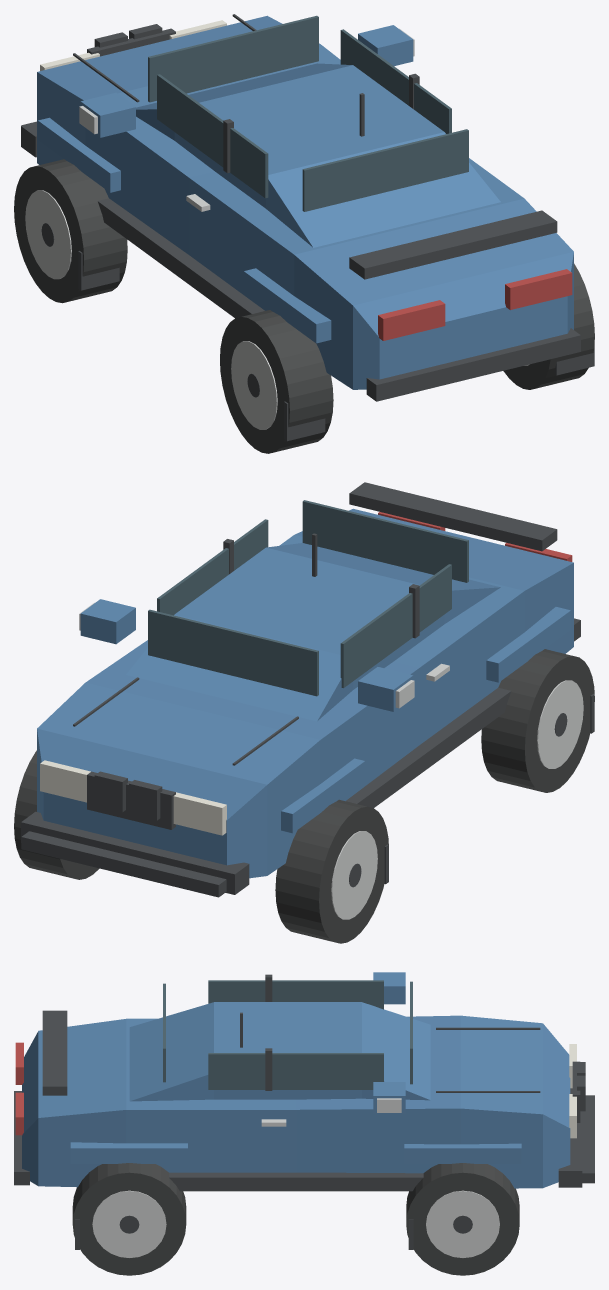
File: bmw_rally.glb
3 renders of one model, top to bottom at view 1: azimuth 30°, elevation 25°; view 2: azimuth 150°, elevation 25°; view 3: azimuth 270°, elevation 25°, orthographic. The views are drawn at different scales.
Visible parts, largest first — view 1: Sculpted lower monocoque, Sloped cabin shell, Tire -1 1, Tire -1 0, Windshield, Rear window, BMW deck spoiler, Side glass -1, Rear diffuser, Wide sill -1, Side glass 1, Alloy wheel -1 0 (+12 smaller); view 2: Sculpted lower monocoque, Sloped cabin shell, Tire -1 0, Tire -1 1, Windshield, Rear window, BMW deck spoiler, Side glass -1, Wide sill -1, BMW front lip, Front air dam, Side glass 1 (+12 smaller); view 3: Sculpted lower monocoque, Sloped cabin shell, Tire 1 1, Tire 1 0, Side glass 1, Wide sill 1, Side glass -1, Alloy wheel 1 1, Alloy wheel 1 0, Fender flare 1 1.35, Fender flare 1 -1.35, BMW deck spoiler (+5 smaller).
Part boxes in pixels (left/top/right/bottom): Sculpted lower monocoque: left=37, top=15, right=573, bottom=389; Sloped cabin shell: left=136, top=63, right=500, bottom=247; Tire -1 1: left=220, top=310, right=333, bottom=453; Tire -1 0: left=14, top=159, right=127, bottom=303; Windshield: left=148, top=15, right=318, bottom=102; Rear window: left=302, top=129, right=468, bottom=211; BMW deck spoiler: left=349, top=210, right=557, bottom=279; Side glass -1: left=157, top=74, right=268, bottom=198; Rear diffuser: left=366, top=328, right=580, bottom=401; Wide sill -1: left=97, top=198, right=264, bottom=318; Side glass 1: left=340, top=29, right=451, bottom=133; Alloy wheel -1 0: left=25, top=190, right=71, bottom=279; Sculpted lower monocoque: left=37, top=508, right=573, bottom=878; Sloped cabin shell: left=126, top=543, right=500, bottom=721; Tire -1 0: left=275, top=799, right=388, bottom=943; Tire -1 1: left=481, top=649, right=594, bottom=792; Windshield: left=148, top=609, right=318, bottom=696; Rear window: left=302, top=500, right=468, bottom=582; BMW deck spoiler: left=349, top=482, right=557, bottom=551; Side glass -1: left=340, top=564, right=451, bottom=688; Wide sill -1: left=346, top=687, right=511, bottom=807; BMW front lip: left=21, top=831, right=226, bottom=897; Front air dam: left=21, top=811, right=249, bottom=894; Side glass 1: left=157, top=519, right=268, bottom=615; Sculpted lower monocoque: left=22, top=1015, right=570, bottom=1188; Sloped cabin shell: left=129, top=1002, right=430, bottom=1101; Tire 1 1: left=72, top=1163, right=186, bottom=1275; Tire 1 0: left=406, top=1163, right=519, bottom=1275; Side glass 1: left=208, top=1053, right=383, bottom=1089; Wide sill 1: left=169, top=1172, right=423, bottom=1191; Side glass -1: left=208, top=980, right=383, bottom=1009; Alloy wheel 1 1: left=92, top=1190, right=166, bottom=1257; Alloy wheel 1 0: left=426, top=1190, right=499, bottom=1257; Fender flare 1 1.35: left=70, top=1142, right=187, bottom=1163; Fender flare 1 -1.35: left=404, top=1143, right=521, bottom=1163; BMW deck spoiler: left=42, top=1010, right=67, bottom=1095.
Size of the model in its own units: 2.42 by 1.89 by 4.7.
